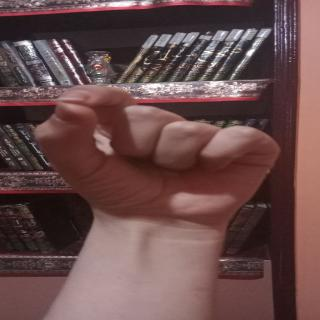FAA: (15, 83, 298, 216)
